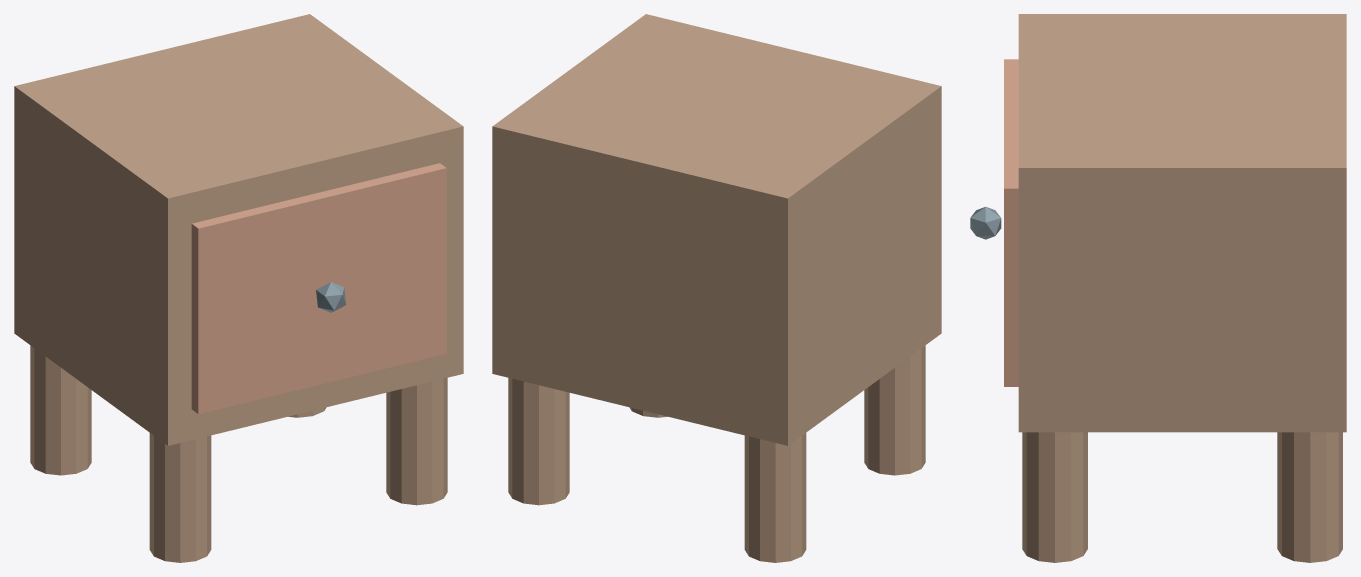
Rendered from nightstand.glb.
3 renders of one model, left to right at view 1: azimuth 30°, elevation 25°; view 2: azimuth 150°, elevation 25°; view 3: azimuth 270°, elevation 25°, orthographic. The views are drawn at different scales.
Visible parts, largest first — view 1: nightstand_004, nightstand_005, nightstand_000, nightstand_002, nightstand_001, nightstand_006; view 2: nightstand_004, nightstand_001, nightstand_003, nightstand_000; view 3: nightstand_004, nightstand_002, nightstand_003, nightstand_005, nightstand_006.
Part boxes in pixels (x1,y1,x2,y2): nightstand_004: (14,14,463,445); nightstand_005: (191,163,446,414); nightstand_000: (149,433,211,562); nightstand_002: (386,378,447,505); nightstand_001: (30,345,91,475); nightstand_006: (316,282,346,312); nightstand_004: (492,14,941,445); nightstand_001: (744,433,806,562); nightstand_003: (508,378,569,505); nightstand_000: (864,345,925,475); nightstand_004: (1018,14,1346,432); nightstand_002: (1022,432,1087,562); nightstand_003: (1277,432,1342,562); nightstand_005: (1004,59,1018,386); nightstand_006: (970,206,1001,239).
Size of the model in its own units: 0.5 by 0.6 by 0.5163.
